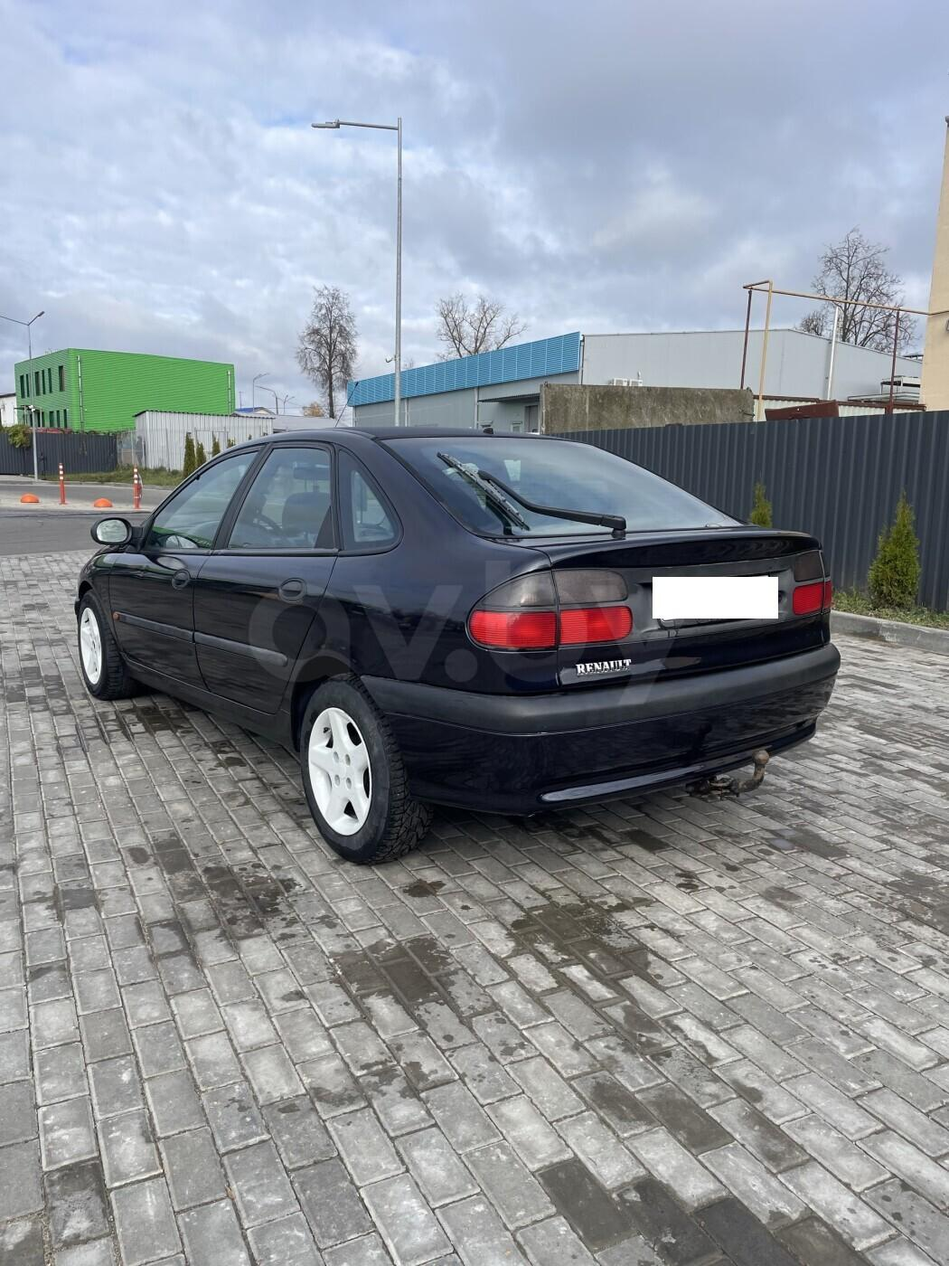Lahuna_1993-1999: (69, 416, 851, 879)
